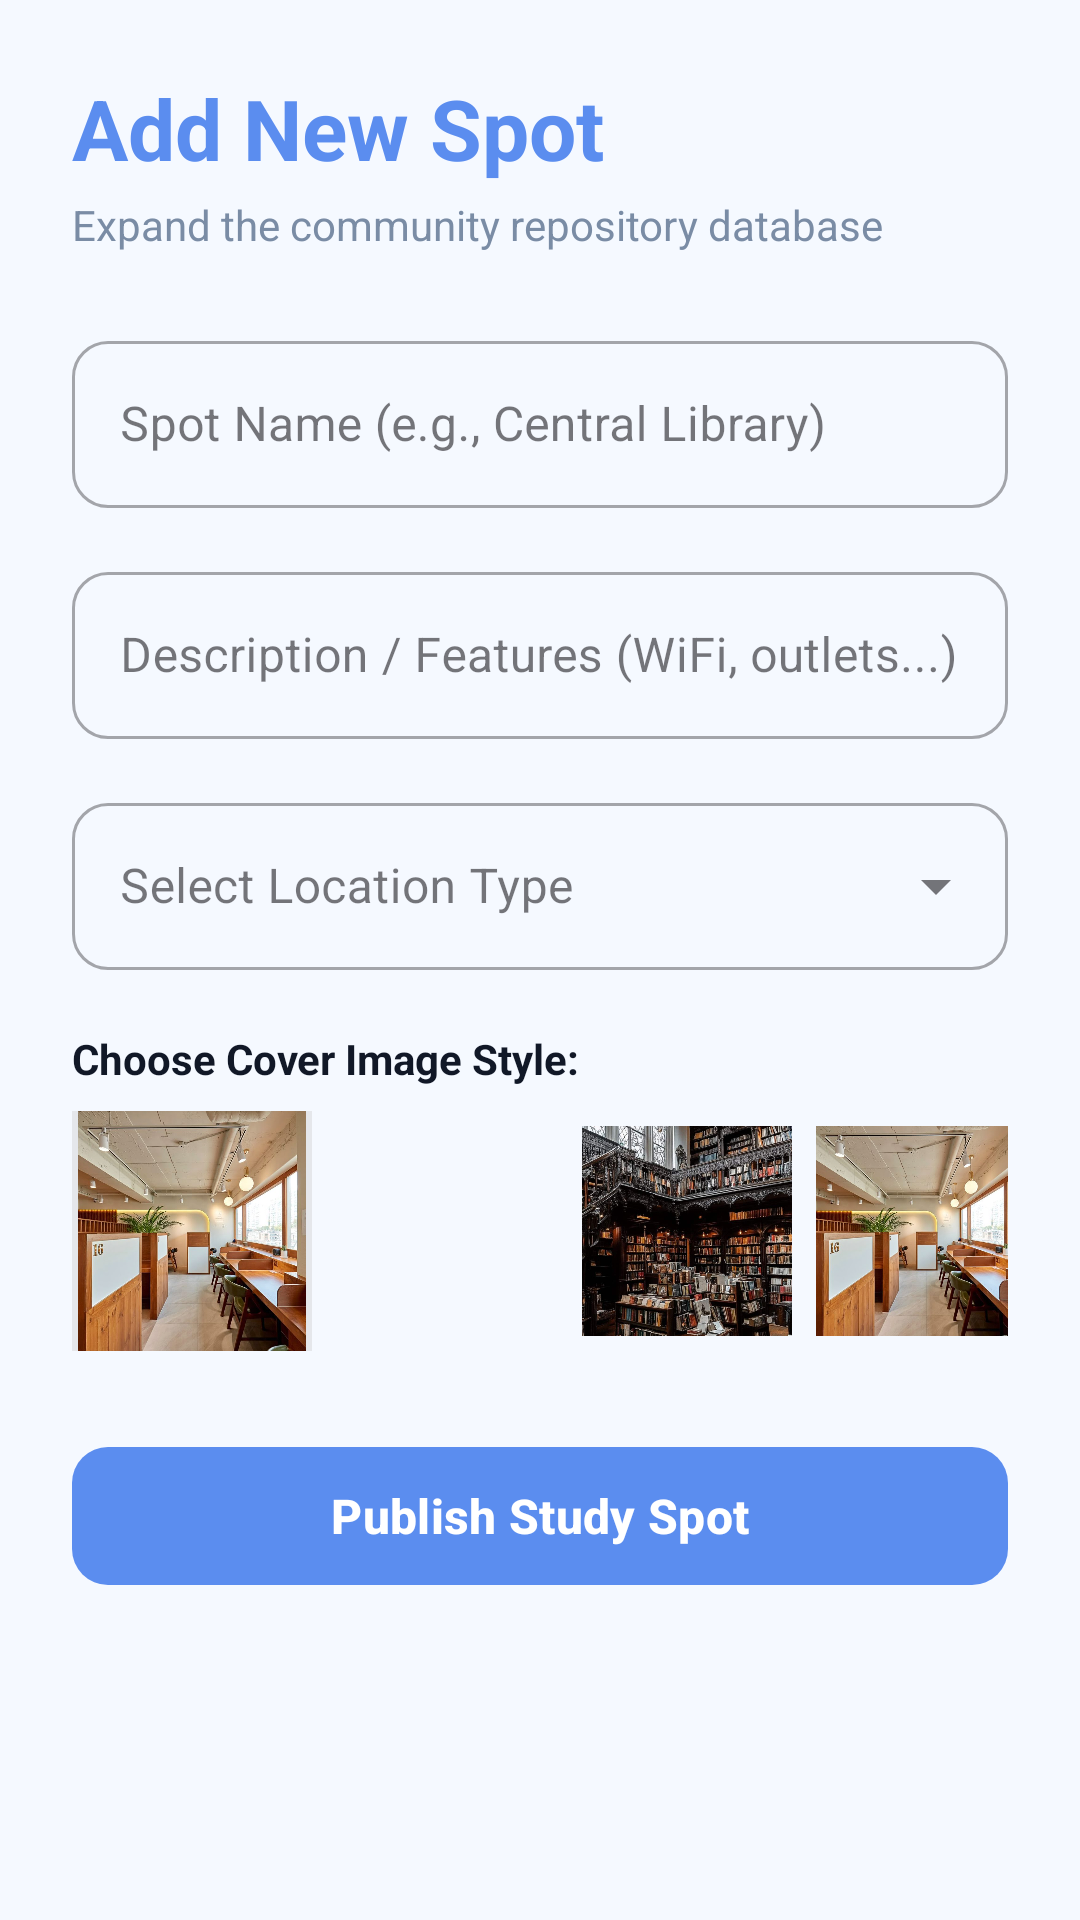

Where icons sit on this 1080px×1920px app screen, as (x1, y1, x2, y2):
library: (582, 1126, 792, 1336)
studyhub: (78, 1111, 306, 1351), (816, 1126, 1008, 1336)
